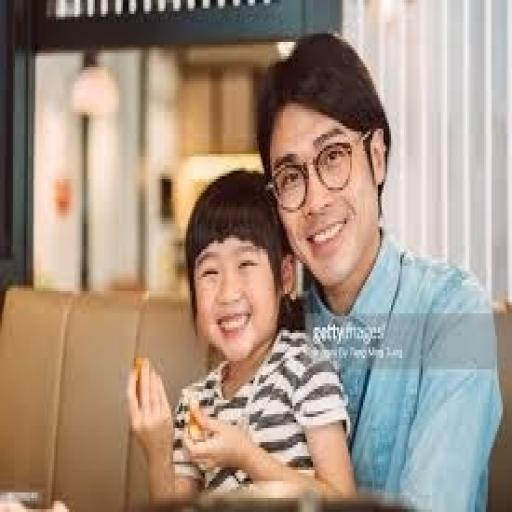hugging: (124, 28, 504, 509), (125, 165, 359, 509)
